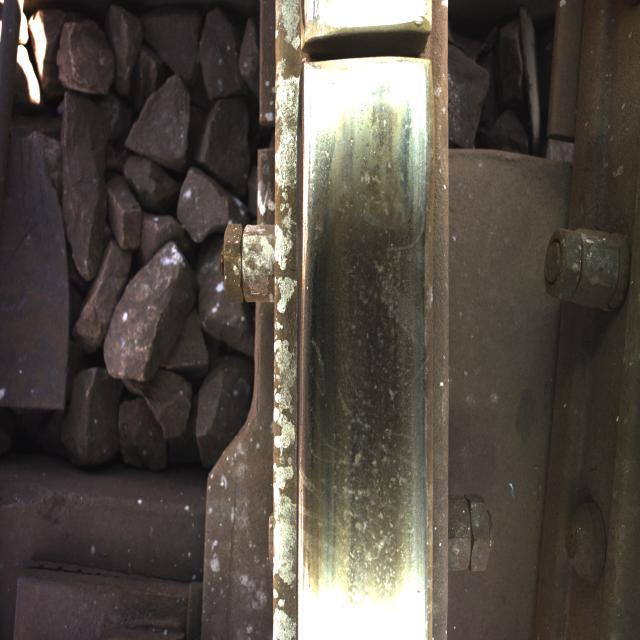spalling: (274, 0, 465, 92)
